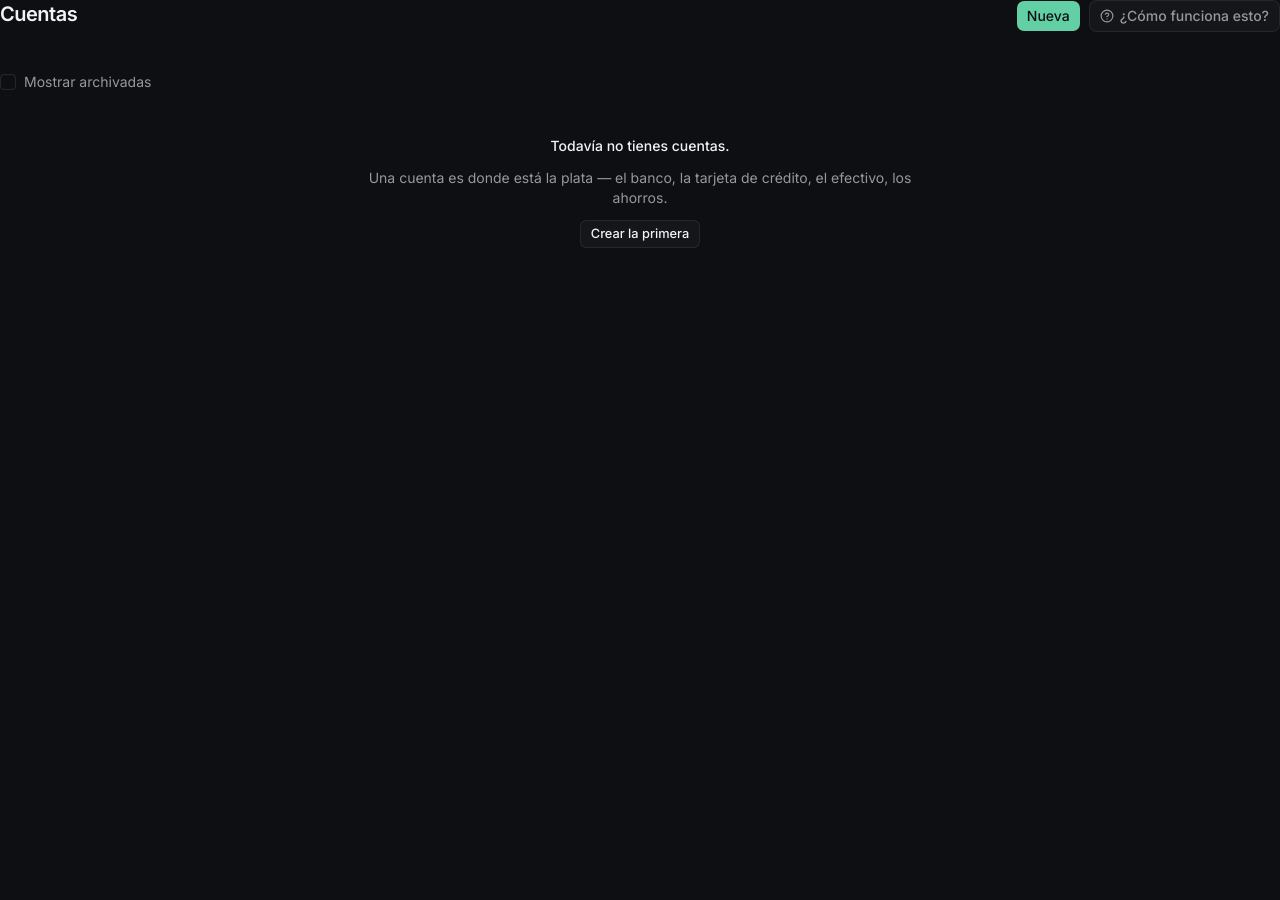
Test: AC-10 — an empty screen teaches and offers the way in › An empty Cuentas screen teaches and offers the way in
The width and height of the screenshot is (1280, 900).
Expected: the text "Una cuenta es donde está la plata" is shown, [369,169,911,206]
Click the button "Crear la primera" at (640, 234), box [580,220,700,248]
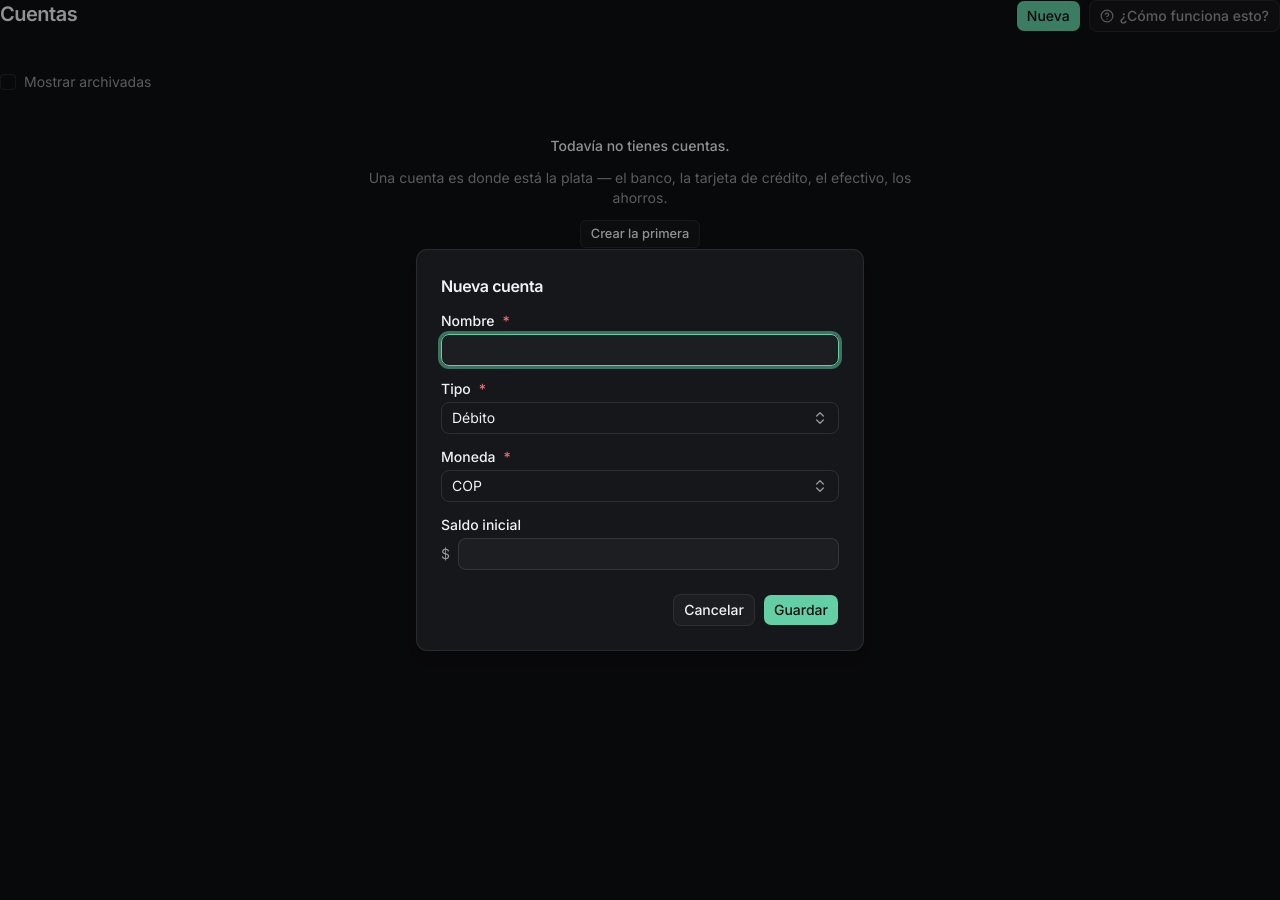
Expected: the heading "Nueva cuenta" is shown, [441,276,543,296]
